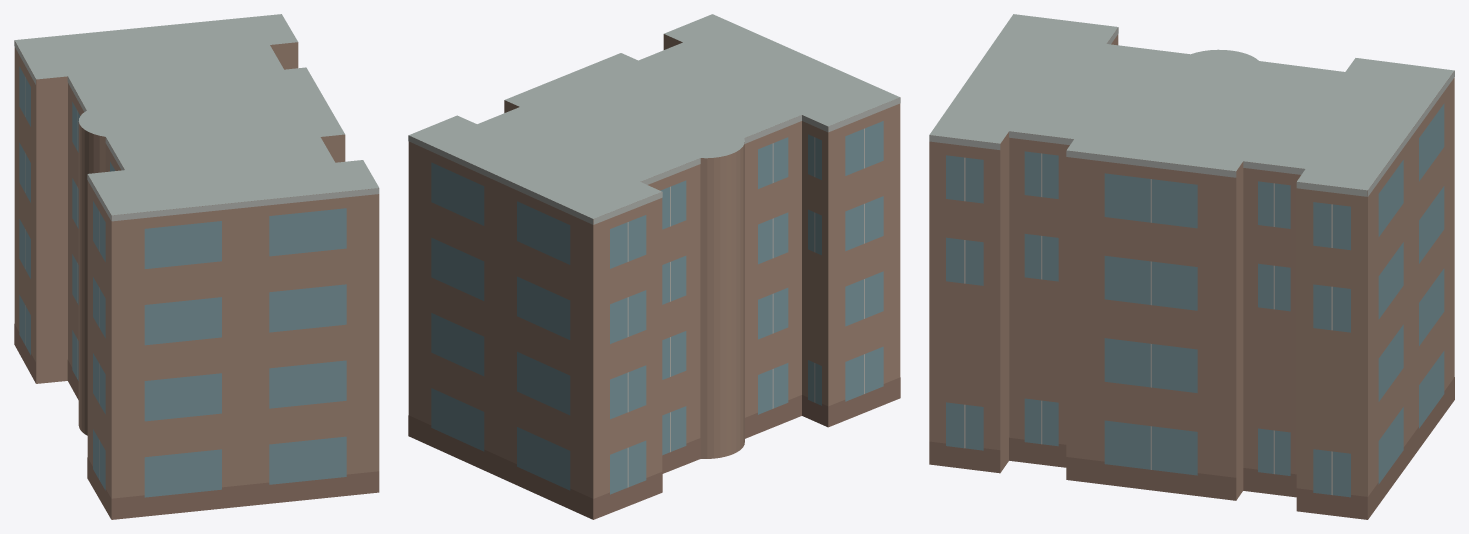
File: survey-upis-32869375.glb
3 renders of one model, left to right at view 1: azimuth 30°, elevation 25°; view 2: azimuth 150°, elevation 25°; view 3: azimuth 270°, elevation 25°, orthographic. The views are drawn at different scales.
Visible parts, largest first — view 1: survey-upis-32869375.tmp; view 2: survey-upis-32869375.tmp; view 3: survey-upis-32869375.tmp.
Part boxes in pixels (bbox=[...]): survey-upis-32869375.tmp: bbox=[14, 14, 379, 519]; survey-upis-32869375.tmp: bbox=[408, 14, 900, 519]; survey-upis-32869375.tmp: bbox=[929, 14, 1454, 519].
Size of the model in its own units: 14.13 by 12.3 by 17.79.
